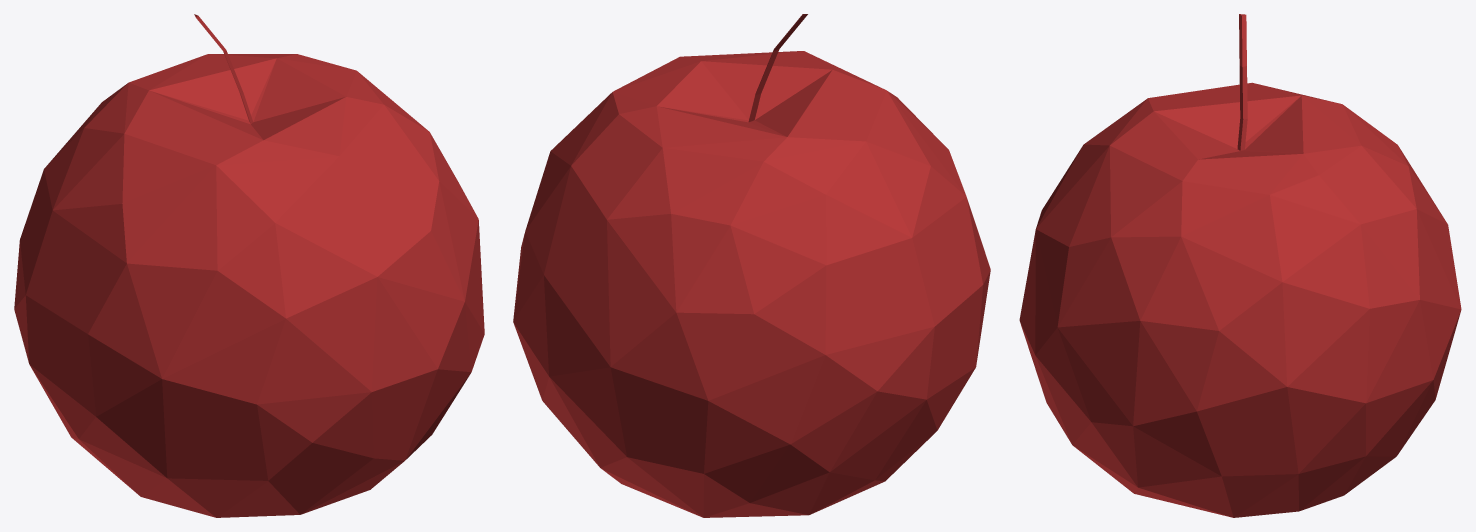
The model's file is Apple_1.fbx.
The picture shows the model from 3 angles, left to right: view 1: azimuth 30°, elevation 25°; view 2: azimuth 150°, elevation 25°; view 3: azimuth 270°, elevation 25°; orthographic projection. The views are drawn at different scales.
Visible parts, largest first — view 1: Sphere.001; view 2: Sphere.001; view 3: Sphere.001.
Part boxes in pixels (x1,y1,x2,y2): Sphere.001: [14, 14, 484, 517]; Sphere.001: [513, 14, 990, 517]; Sphere.001: [1019, 14, 1461, 517].
Size of the model in its own units: 199 by 220 by 202.
